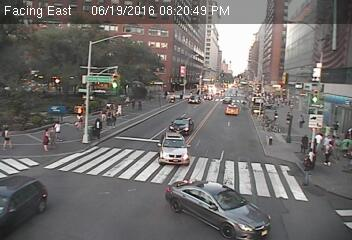neg: (161, 113, 180, 137), (113, 112, 131, 136), (167, 186, 183, 208), (214, 100, 230, 121), (191, 96, 204, 115), (217, 211, 230, 228)
pos: (89, 115, 107, 139), (294, 130, 311, 152), (294, 111, 308, 129), (135, 97, 147, 112), (128, 95, 139, 111)
